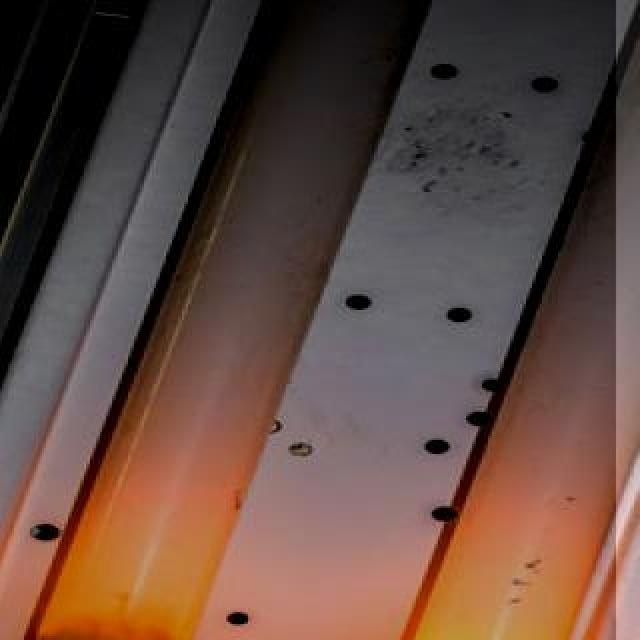fluorescent tube: (0, 0, 386, 640), (308, 0, 640, 640)
